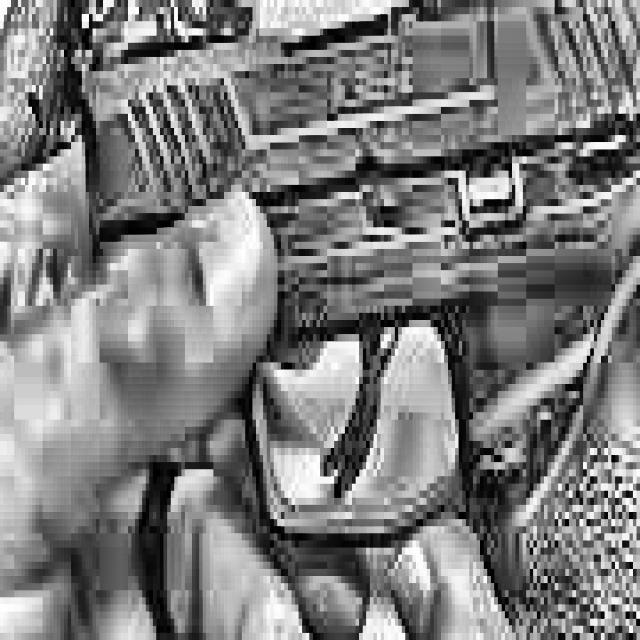Ruger: (74, 0, 640, 640)
